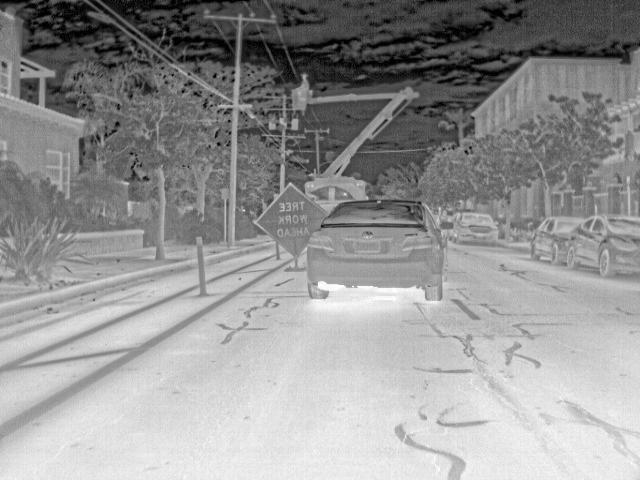car: (308, 200, 448, 301), (568, 213, 640, 277), (529, 213, 567, 263), (453, 212, 501, 246), (441, 221, 453, 240)
person: (297, 71, 311, 88)
